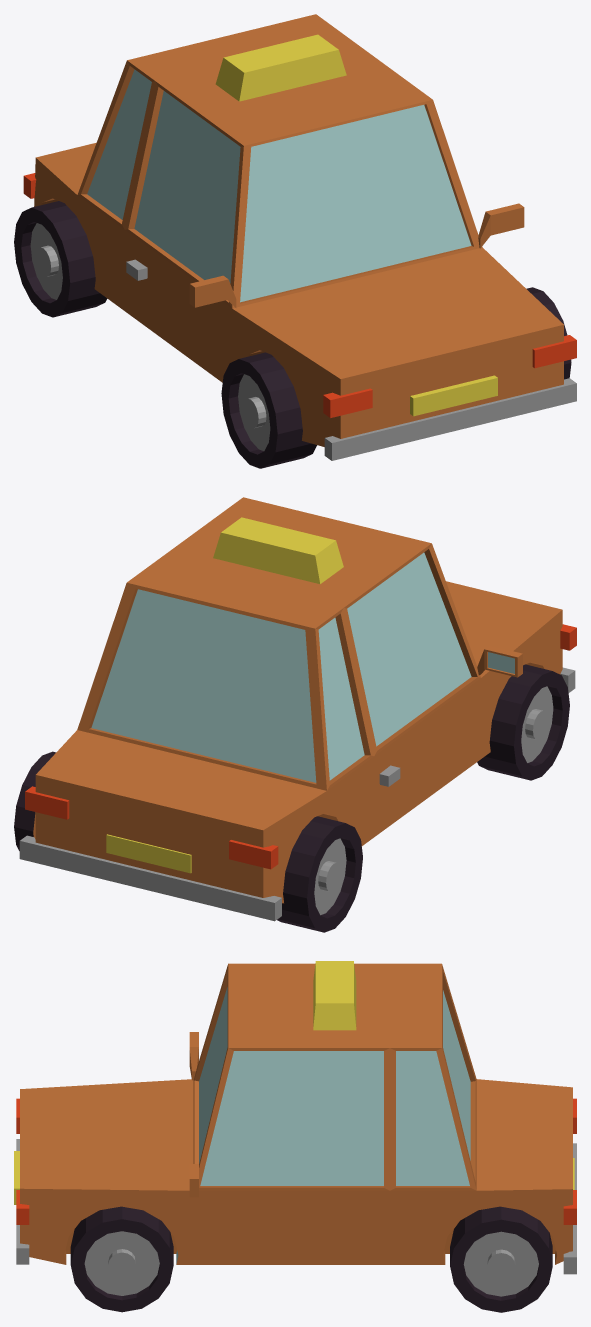
Rendered from Taxi1.fbx.
3 views of the same model, one above another, from view 1: azimuth 30°, elevation 25°; view 2: azimuth 150°, elevation 25°; view 3: azimuth 270°, elevation 25° (orthographic). The views are drawn at different scales.
Parts seen in each view (by area): view 1: Cube.004; view 2: Cube.004; view 3: Cube.004.
Boxes of the visible parts, box(x1,y1,x2,y2) form: Cube.004: box(14, 14, 576, 468); Cube.004: box(14, 497, 576, 932); Cube.004: box(14, 961, 576, 1312).
Bounding box in the file's own units: 378 × 319 × 613.
